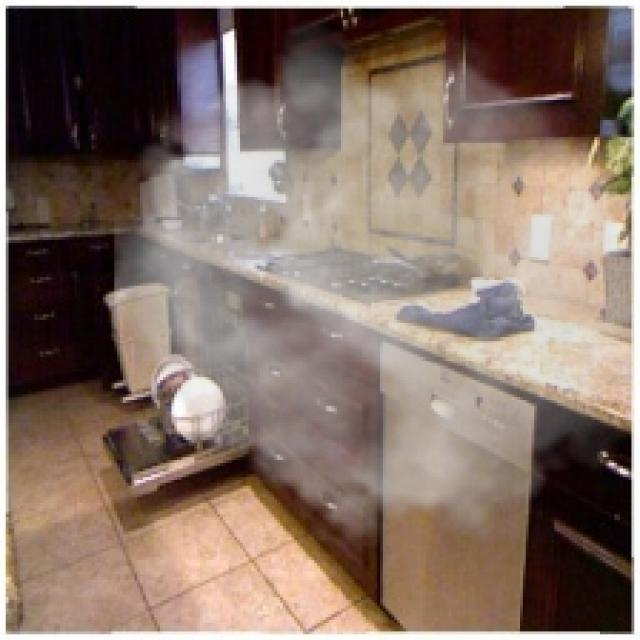smoke: (115, 20, 634, 560)
